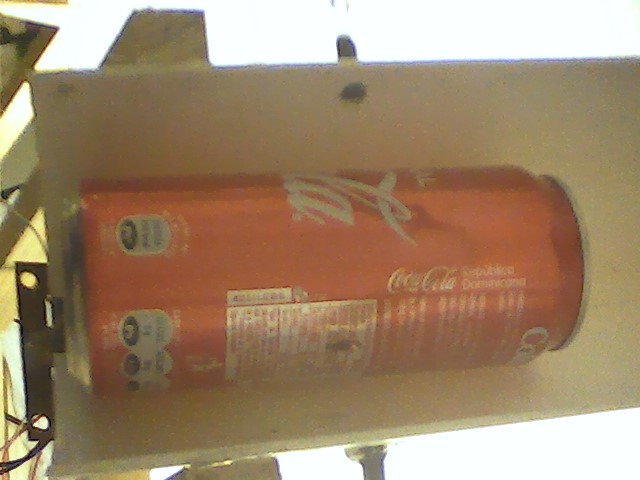lata: (62, 158, 592, 402)
